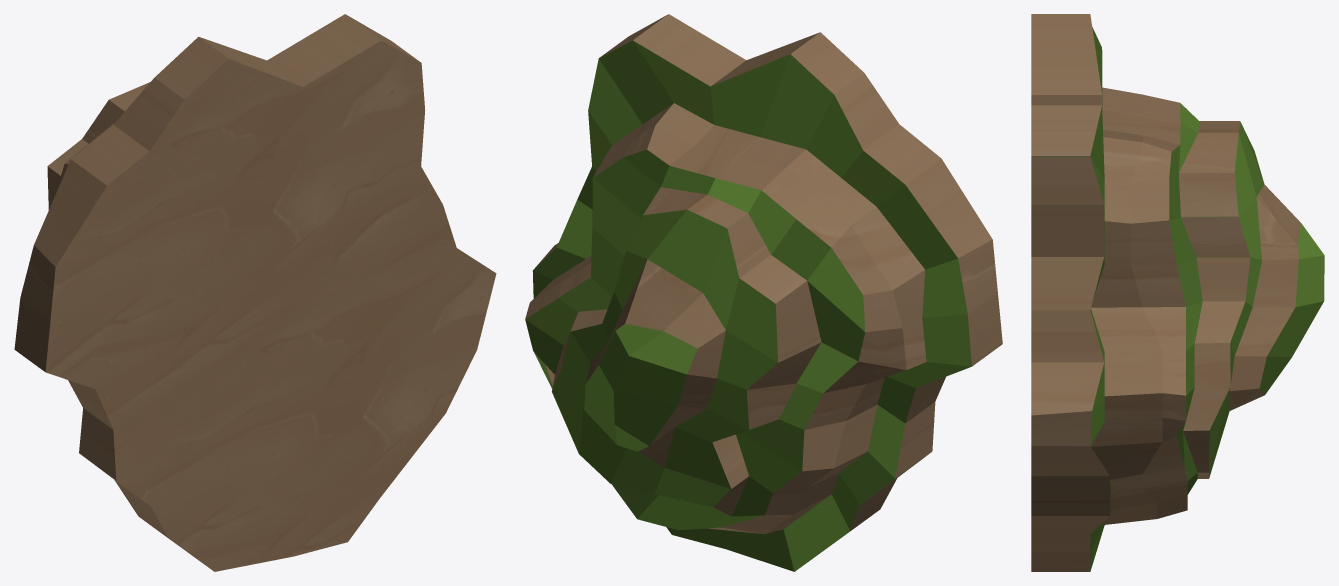
The model's file is mountain-04.fbx.
3 views of the same model, side by side, from view 1: azimuth 30°, elevation 25°; view 2: azimuth 150°, elevation 25°; view 3: azimuth 270°, elevation 25° (orthographic). The views are drawn at different scales.
Visible parts, largest first — view 1: mountain-04; view 2: mountain-04; view 3: mountain-04.
Boxes of the visible parts, x1,y1,x2,y2 form: mountain-04: (14,14,496,571); mountain-04: (525,14,1002,571); mountain-04: (1031,14,1324,571).
Size of the model in its own units: 30.49 by 33.18 by 17.57.
